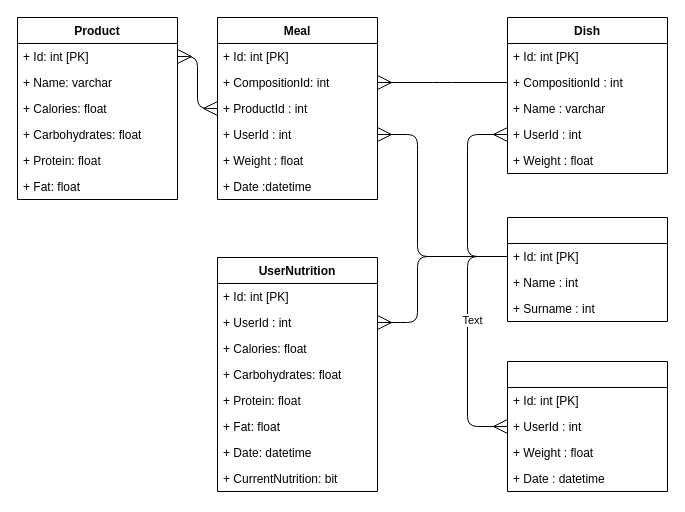
The diagram is 685 pixels wide and 512 high, and some of its shapes have lost their labels. The box of each missing label's shape, as (x1, y1, x2, y2) in pixels:
User: (506, 216, 668, 322)
UserWeight: (506, 360, 668, 492)
